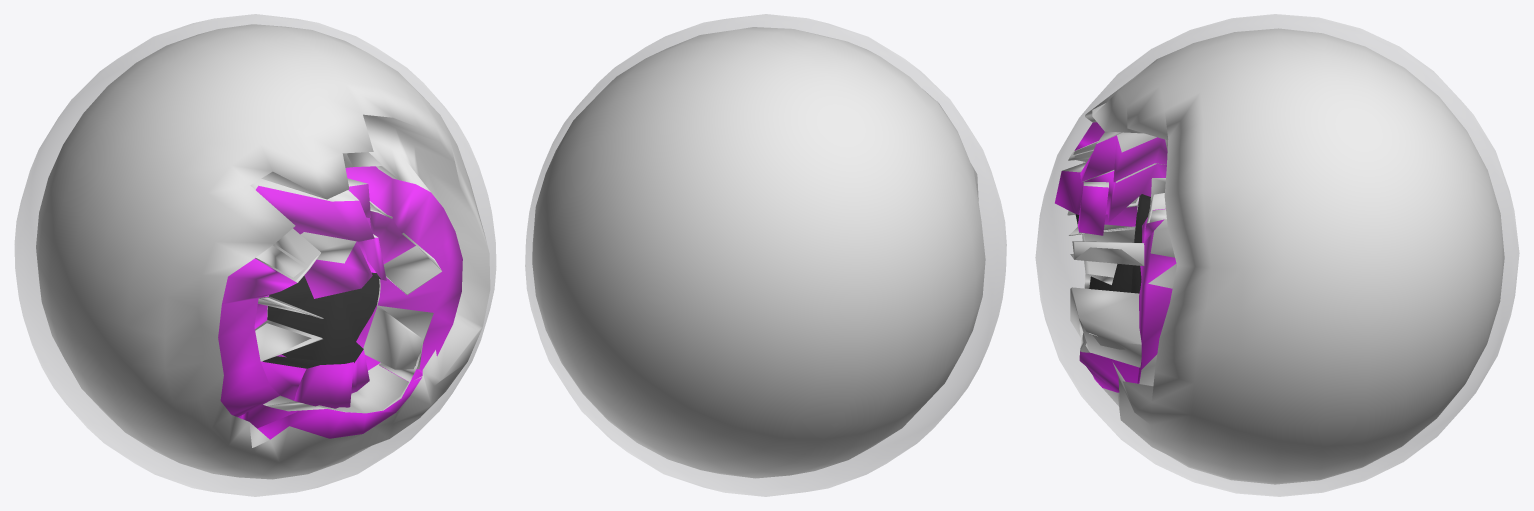
File: defo.gltf
3 views of the same model, side by side, from view 1: azimuth 30°, elevation 25°; view 2: azimuth 150°, elevation 25°; view 3: azimuth 270°, elevation 25° (orthographic).
Parts seen in each view (by area): view 1: Sphere; view 2: Sphere; view 3: Sphere.
Part boxes in pixels (left/top/right/bottom): Sphere: left=14, top=14, right=496, bottom=496; Sphere: left=525, top=14, right=1006, bottom=496; Sphere: left=1035, top=14, right=1519, bottom=496.
Bounding box in the file's own units: 1.99 × 1.99 × 1.99.
